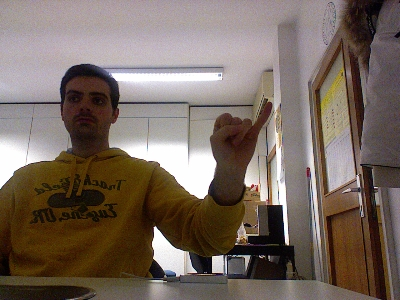小指: (208, 100, 272, 169)
